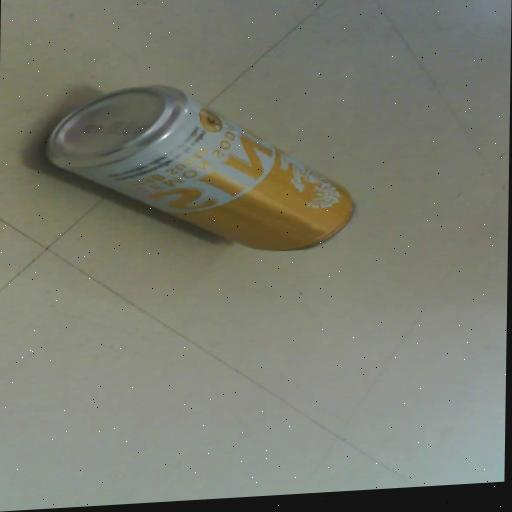canned: (39, 64, 380, 277)
